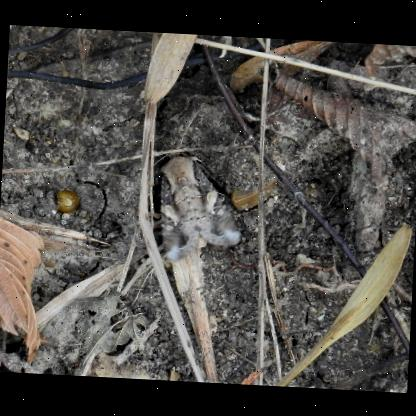Fall Armyworm Moth: (146, 147, 247, 268)
